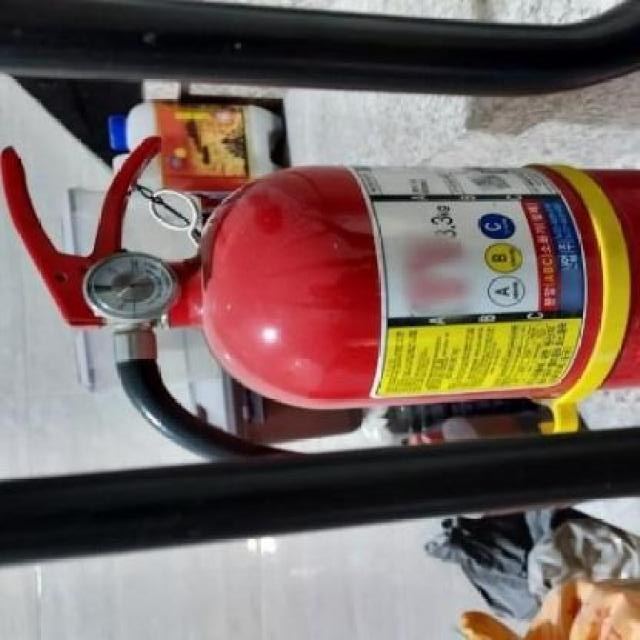fire extinguisher: (0, 136, 640, 464)
